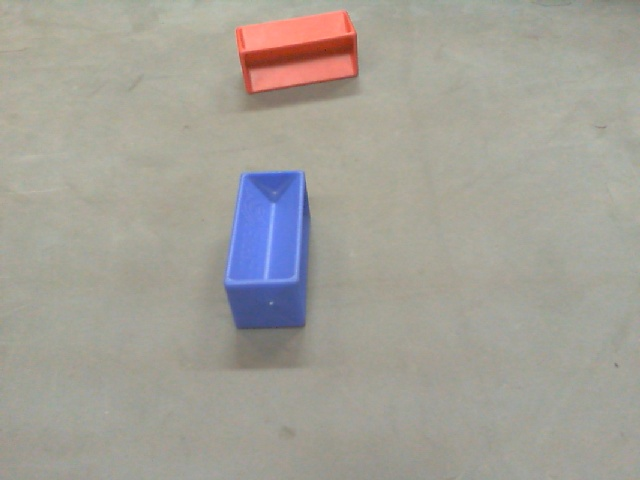BlueSample: (223, 170, 312, 332)
RedSample: (232, 9, 365, 91)
